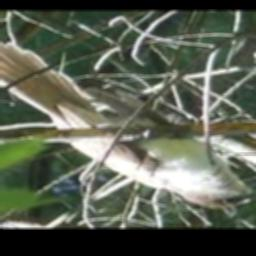Cuckoo: (0, 42, 256, 208)
